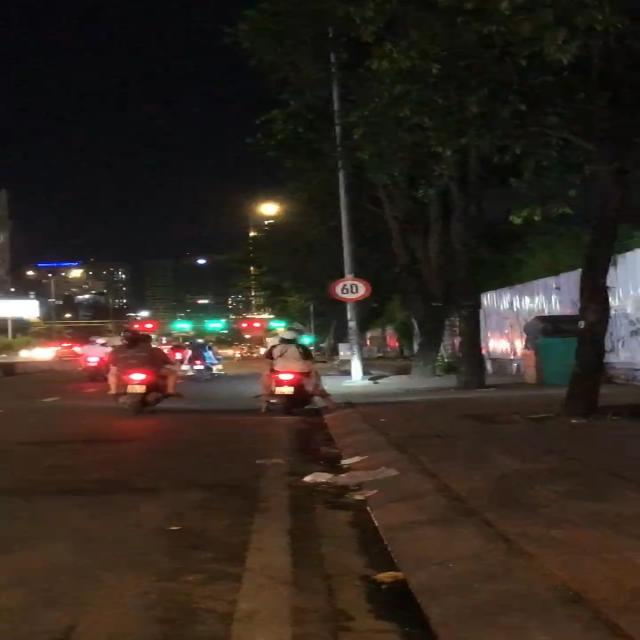Bien bao toc do toi da cho phep: (328, 274, 376, 304)
